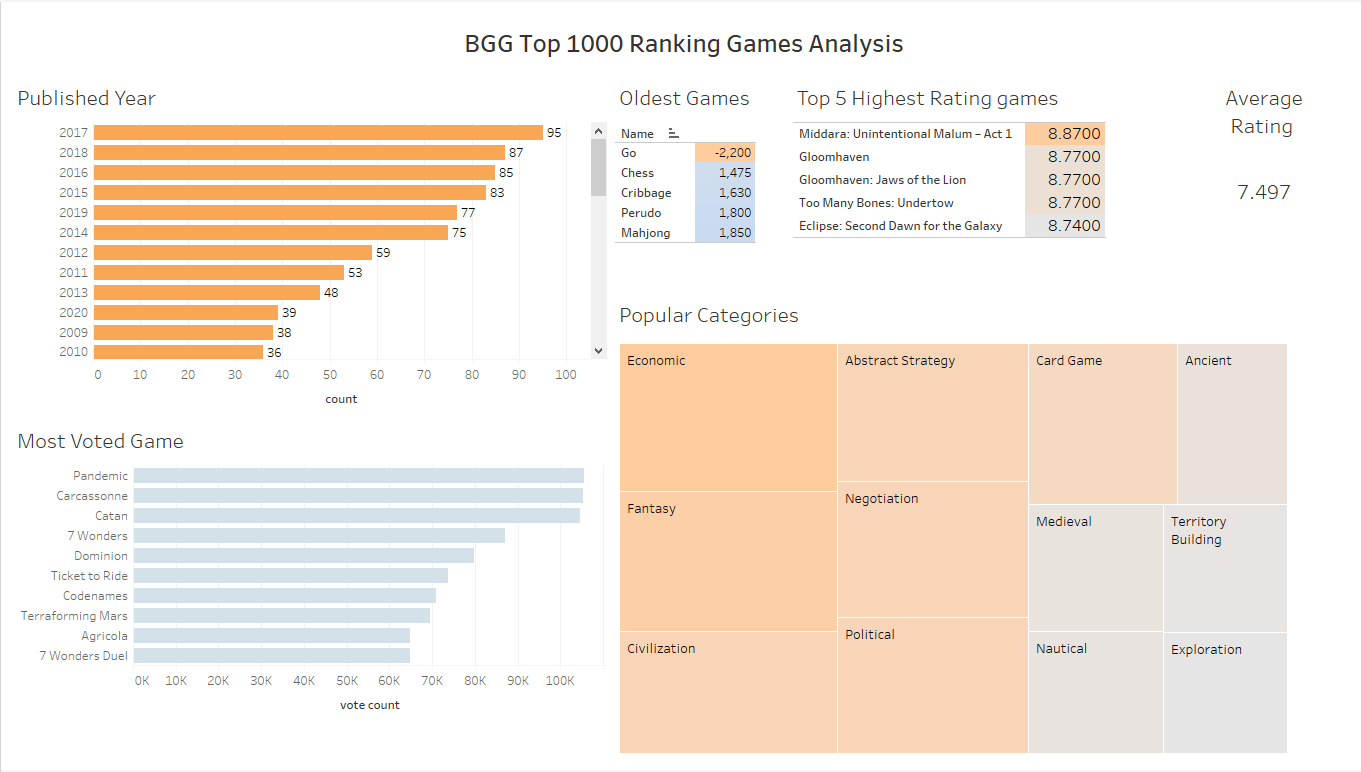

This screenshot's page, from the dashboard's own definition file:
{"tool":"tableau","page":{"name":"Dashboard 1","canvas":[1200,900],"ordinal":0},"visuals":[{"type":"worksheet","box":[0,0,1200,900]},{"type":"worksheet","param":"horz","box":[8,8,1184,884]},{"type":"worksheet","param":"horz","box":[8,8,1184,884]},{"type":"worksheet","param":"horz","box":[8,8,1184,884]},{"type":"worksheet","param":"horz","box":[8,8,1184,884]},{"type":"worksheet","param":"horz","box":[8,8,1184,884]},{"type":"worksheet","param":"horz","box":[8,8,1184,884]},{"type":"worksheet","box":[8,8,1184,884]},{"type":"worksheet","param":"C:/Users/enfl3/Documents/NSS/capstone/boardgame-geeks-search-tool/BGG.jpeg","box":[8,8,1184,147.3]},{"type":"worksheet","title":"game list","mark":"Automatic","rows":["rank","name","min_players","max_players","age","avgrating","playing_time"],"param":"[federated.1fl2kkv0yh9jan1axs9pc1aa6g3w].[none:playing_time:qk]","box":[8,155.3,275.9,84.7]},{"type":"worksheet","title":"game list","mark":"Automatic","rows":["rank","name","min_players","max_players","age","avgrating","playing_time"],"param":"[federated.1fl2kkv0yh9jan1axs9pc1aa6g3w].[none:avgrating:qk]","box":[283.9,155.3,302.7,84.7]},{"type":"worksheet","title":"game list","mark":"Automatic","rows":["rank","name","min_players","max_players","age","avgrating","playing_time"],"param":"[federated.1fl2kkv0yh9jan1axs9pc1aa6g3w].[none:age:qk]","box":[586.6,155.3,302.7,84.7]},{"type":"worksheet","title":"game list","mark":"Automatic","rows":["rank","name","min_players","max_players","age","avgrating","playing_time"],"param":"[federated.1fl2kkv0yh9jan1axs9pc1aa6g3w].[none:max_players:ok]","box":[889.3,155.3,302.7,84.7]},{"type":"worksheet","title":"game list","mark":"Automatic","rows":["rank","name","min_players","max_players","age","avgrating","playing_time"],"box":[8,240,744,359.9]},{"type":"worksheet","param":"https://cf.geekdo-images.com/Zdt8l4oTBpFICsMyNof7Jg__thumb/img/71w4Tt3xOnuDEDTCG","box":[752,240,440,359.9]},{"type":"worksheet","title":"Description","mark":"Automatic","box":[8,599.9,636,292.1]},{"type":"worksheet","title":"Categories","mark":"Automatic","box":[644,599.9,548,146]},{"type":"worksheet","title":"Y.Publish","mark":"Automatic","box":[644,746,156,146]},{"type":"worksheet","title":"BGG rating","mark":"Automatic","box":[800,746,157,146]},{"type":"worksheet","title":"Number of Vote","mark":"Automatic","box":[957,746,235,146]}]}

Visuals, with their boxes on the page's 1200x900 design canvas (x1, y1, x2, y2). These are canvas units, not pixel positions in the 1361x772 screenshot, which may show the page scaled, cropped or inside an application window:
worksheet: detection(0, 0, 1200, 900)
worksheet: detection(8, 8, 1192, 892)
worksheet: detection(8, 8, 1192, 892)
worksheet: detection(8, 8, 1192, 892)
worksheet: detection(8, 8, 1192, 892)
worksheet: detection(8, 8, 1192, 892)
worksheet: detection(8, 8, 1192, 892)
worksheet: detection(8, 8, 1192, 892)
worksheet: detection(8, 8, 1192, 155)
"game list" worksheet: detection(8, 155, 284, 240)
"game list" worksheet: detection(284, 155, 587, 240)
"game list" worksheet: detection(587, 155, 889, 240)
"game list" worksheet: detection(889, 155, 1192, 240)
"game list" worksheet: detection(8, 240, 752, 600)
worksheet: detection(752, 240, 1192, 600)
"Description" worksheet: detection(8, 600, 644, 892)
"Categories" worksheet: detection(644, 600, 1192, 746)
"Y.Publish" worksheet: detection(644, 746, 800, 892)
"BGG rating" worksheet: detection(800, 746, 957, 892)
"Number of Vote" worksheet: detection(957, 746, 1192, 892)
